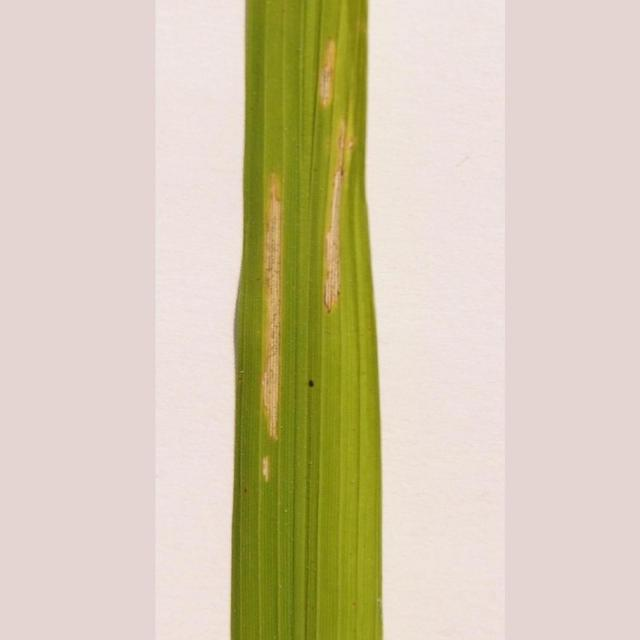leaf blight: (248, 37, 365, 481)
